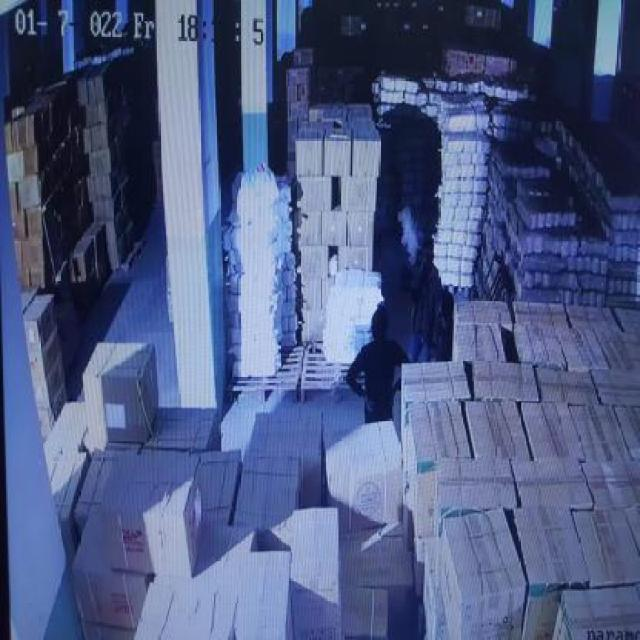fire: (391, 198, 420, 270)
